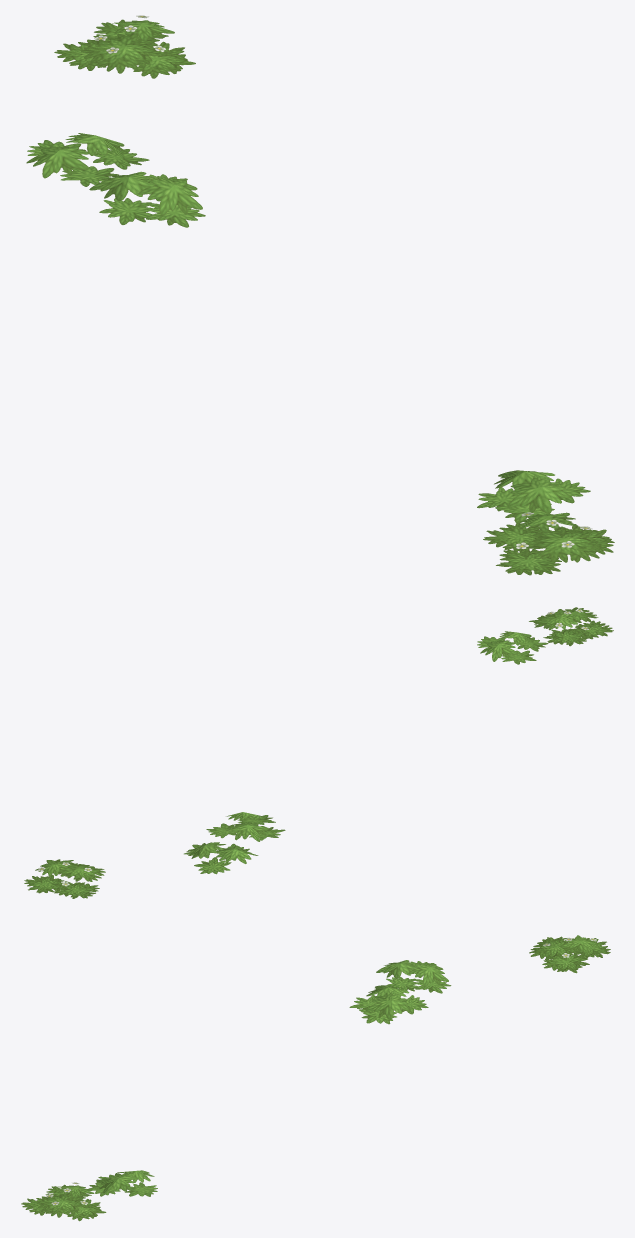
The model's file is Area_13_12.fbx.
3 views of the same model, one above another, from view 1: azimuth 30°, elevation 25°; view 2: azimuth 150°, elevation 25°; view 3: azimuth 330°, elevation 25° (orthographic). The views are drawn at different scales.
Parts seen in each view (by area): view 1: Area_13_12; view 2: Area_13_12; view 3: Area_13_12.
Part boxes in pixels (x1,y1,x2,y2): Area_13_12: [26, 15, 614, 575]; Area_13_12: [24, 607, 613, 898]; Area_13_12: [21, 935, 610, 1221].
Bounding box in the file's own units: 724 × 69.42 × 2637.
